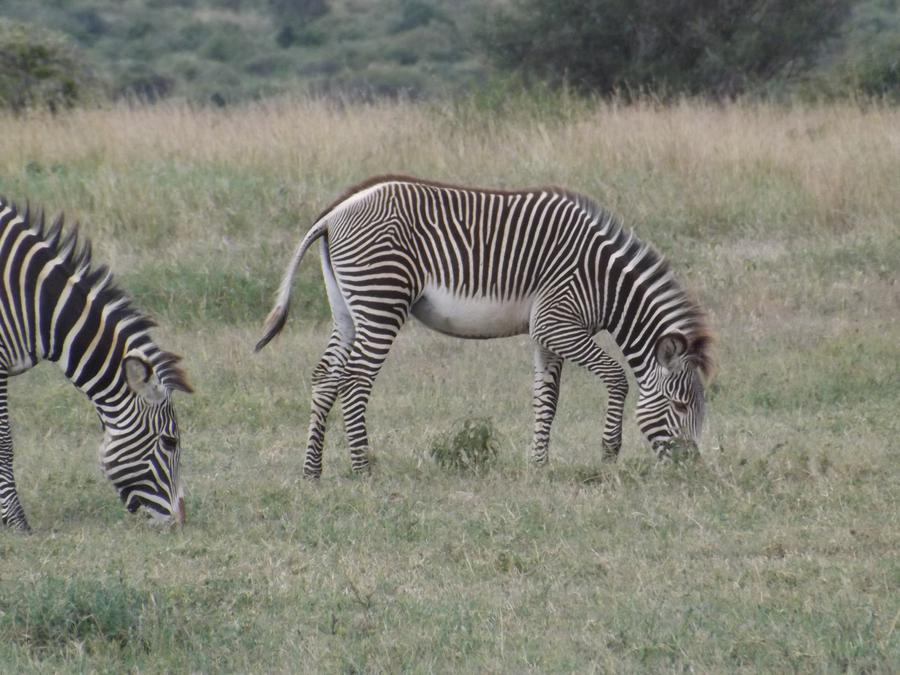zebra_grevys: (303, 152, 601, 339)
